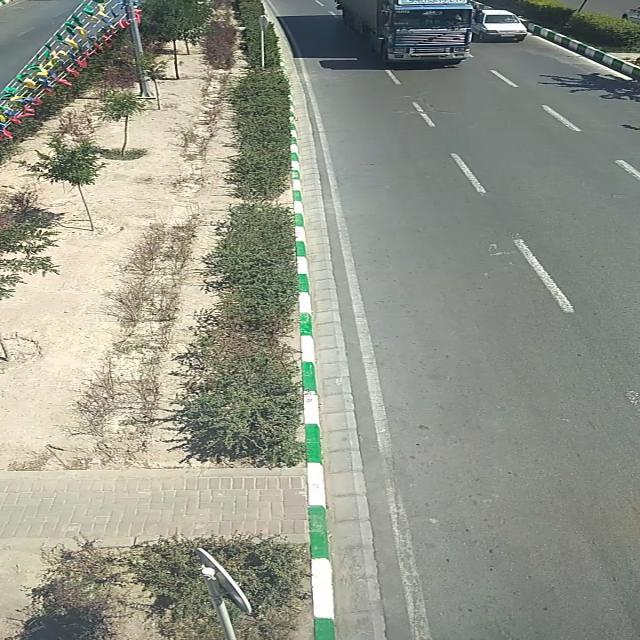car: (473, 11, 531, 43)
truck: (340, 0, 471, 68)
